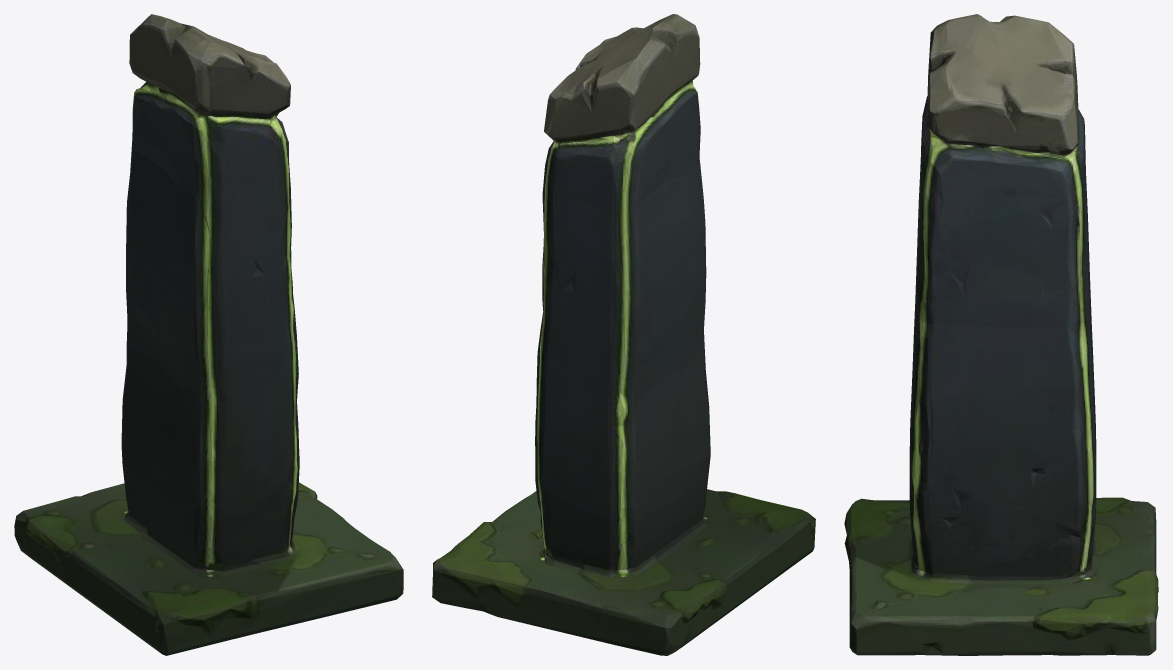
File: bargain_stone_drowned.glb
3 views of the same model, side by side, from view 1: azimuth 30°, elevation 25°; view 2: azimuth 150°, elevation 25°; view 3: azimuth 270°, elevation 25° (orthographic). The views are drawn at different scales.
Parts seen in each view (by area): view 1: tripo_node_0c3b4199-9add-44f0-9620-a1572080cecd.001; view 2: tripo_node_0c3b4199-9add-44f0-9620-a1572080cecd.001; view 3: tripo_node_0c3b4199-9add-44f0-9620-a1572080cecd.001.
Part boxes in pixels (x1,y1,x2,y2): tripo_node_0c3b4199-9add-44f0-9620-a1572080cecd.001: (14, 14, 403, 655); tripo_node_0c3b4199-9add-44f0-9620-a1572080cecd.001: (432, 14, 815, 655); tripo_node_0c3b4199-9add-44f0-9620-a1572080cecd.001: (844, 14, 1158, 655).
Size of the model in its own units: 0.4682 by 0.9983 by 0.5005.
Materials: 1 (1 with a texture image).
